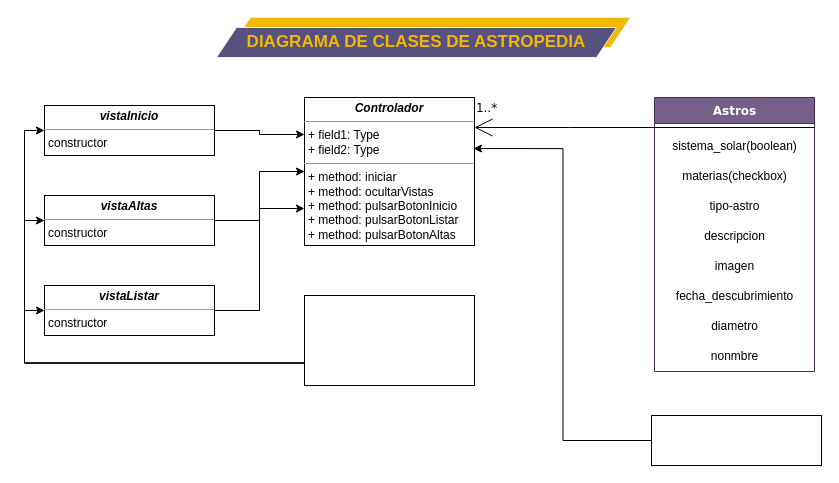
This 839x483 diagram has some shape labels left out. The centre of each missing label's shape, as x and y in pixels:
metodo constructor: (736,440)
vista + method: mostrar: (389,340)
